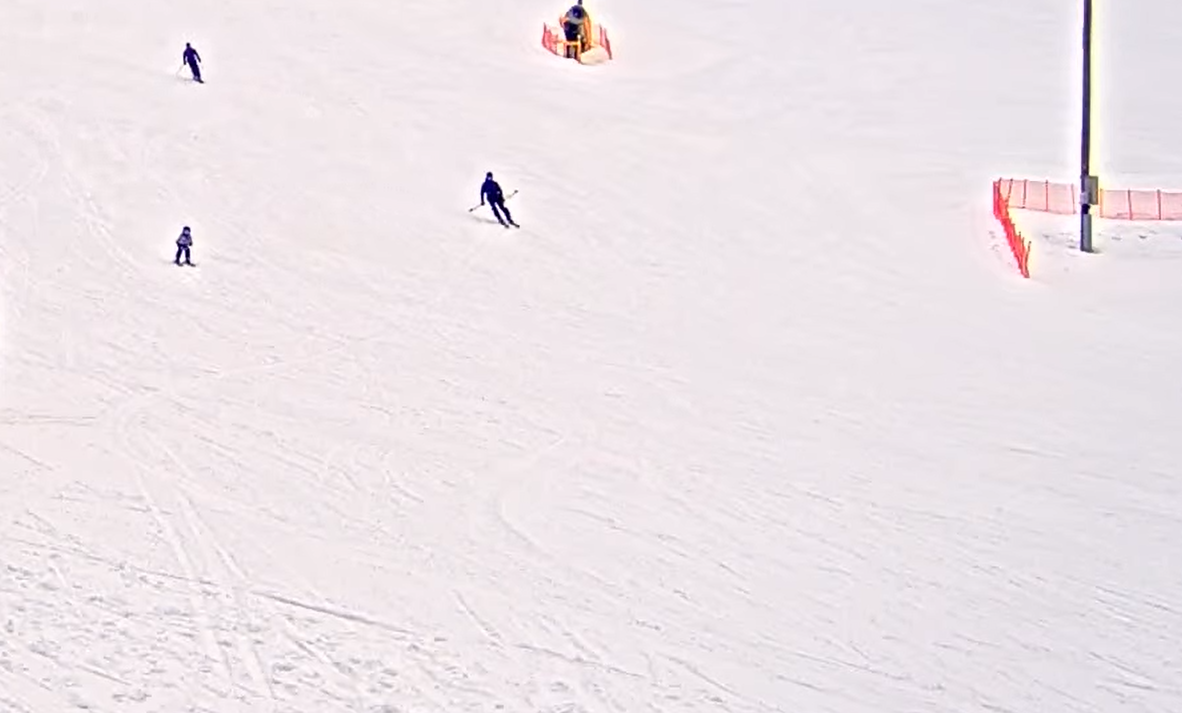skier: (468, 170, 520, 229), (175, 41, 204, 85), (172, 220, 197, 267)
